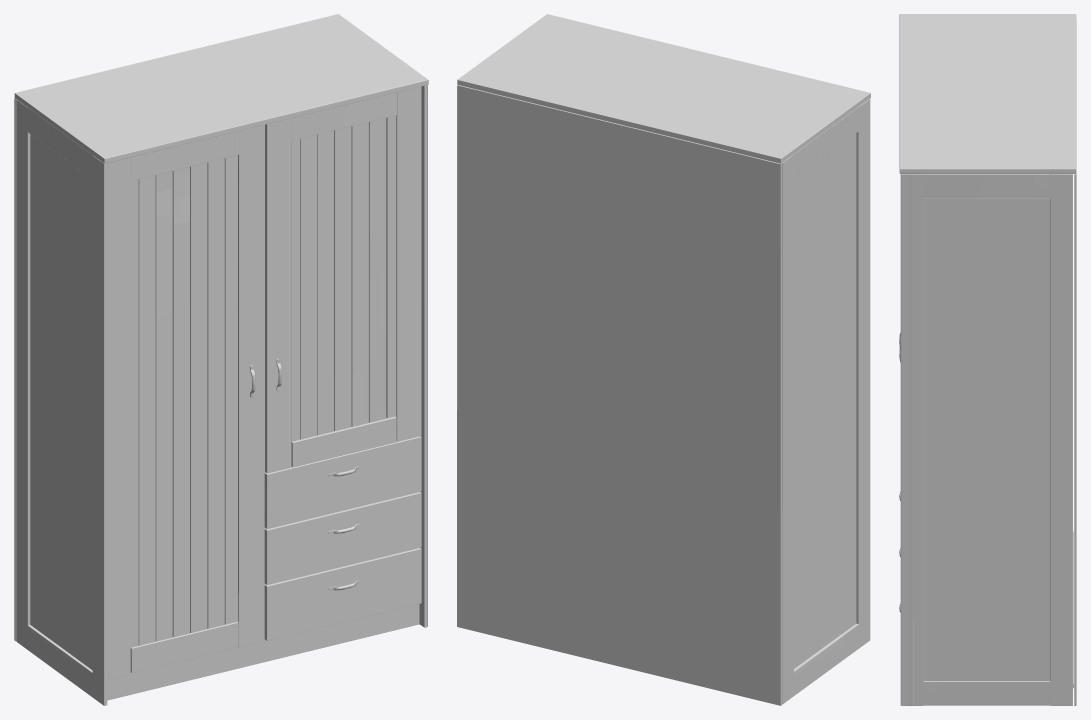
Rendered from 02 - MUSKEN - 雙門衣櫃衣櫥3抽, 白色, 124x60x201 公分 IKEA 線上購物.glb.
The picture shows the model from 3 angles, left to right: view 1: azimuth 30°, elevation 25°; view 2: azimuth 150°, elevation 25°; view 3: azimuth 270°, elevation 25°; orthographic projection.
Visible parts, largest first — view 1: Mesh_0; view 2: Mesh_0; view 3: Mesh_0.
Part boxes in pixels (x1,y1,x2,y2): Mesh_0: (14, 14, 428, 705); Mesh_0: (457, 14, 870, 705); Mesh_0: (899, 14, 1076, 705).
Size of the model in its own units: 1.24 by 2.01 by 0.6.
Materials: 1 (1 with a texture image).
